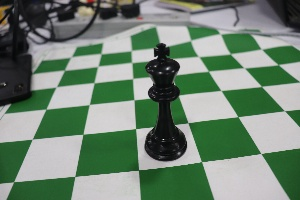black_king: (131, 27, 193, 163)
